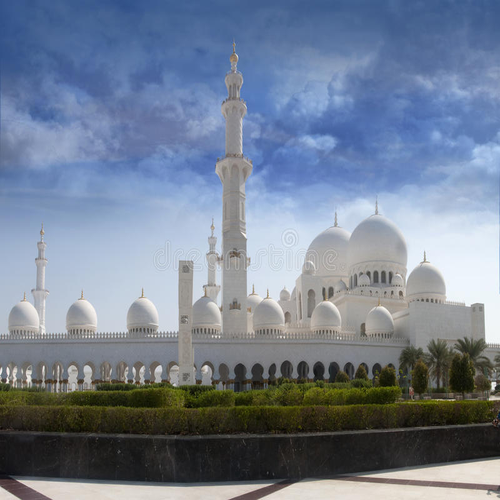Mosque: (12, 44, 492, 390)
